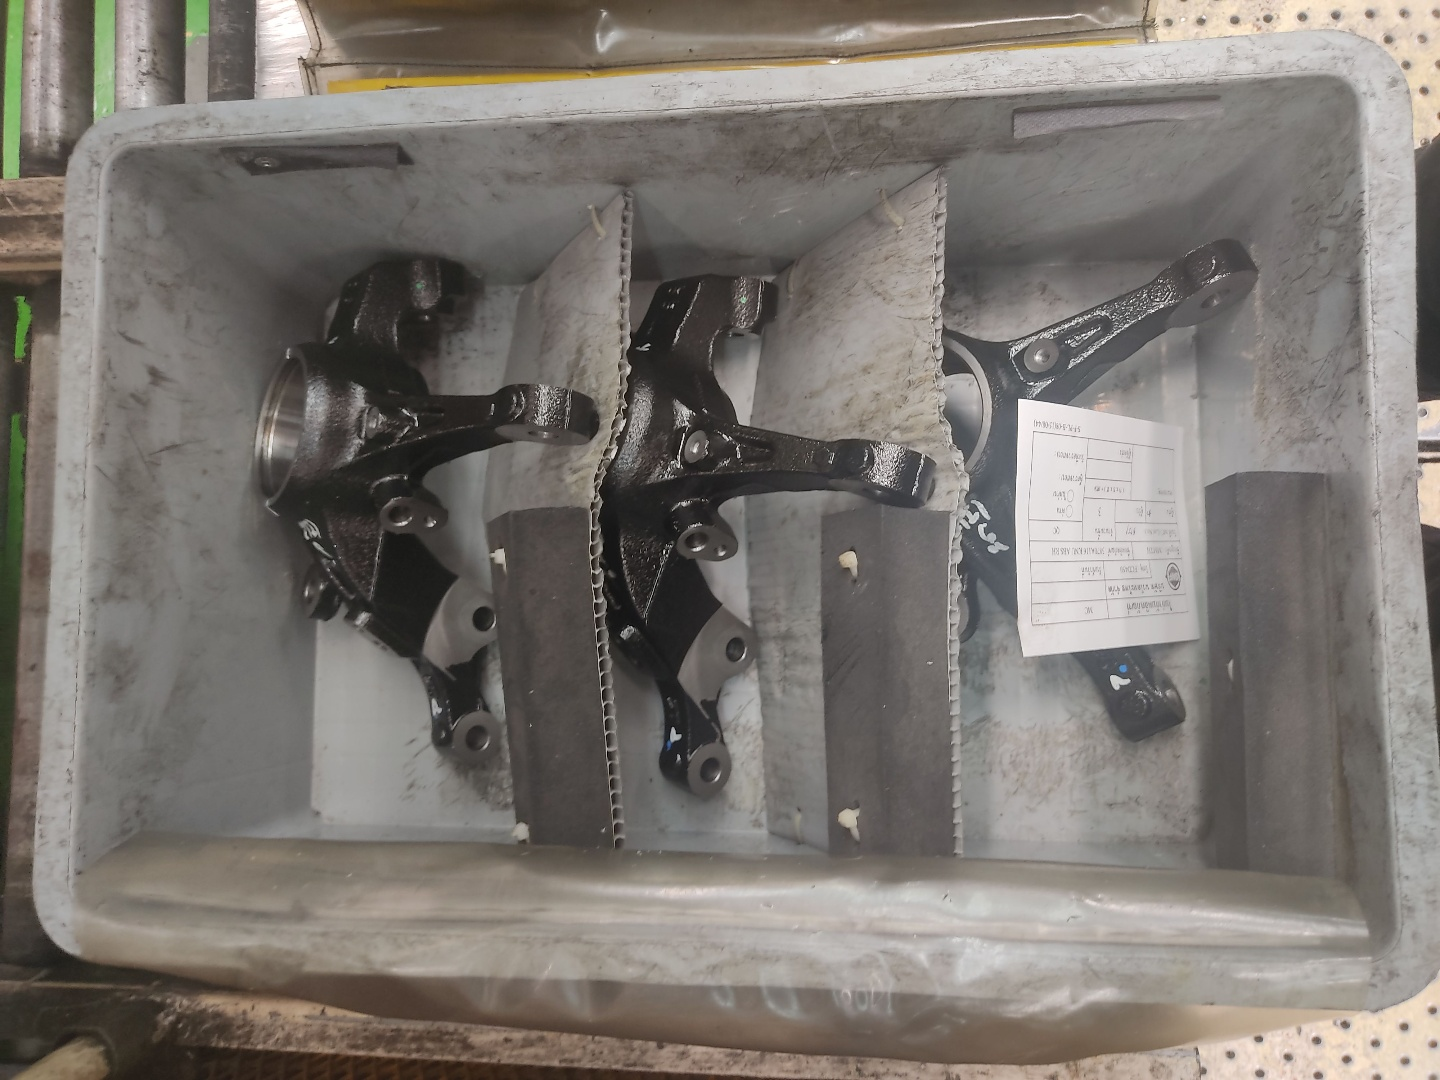abs-rh: (249, 242, 607, 781), (926, 230, 1264, 760), (615, 261, 942, 802)
